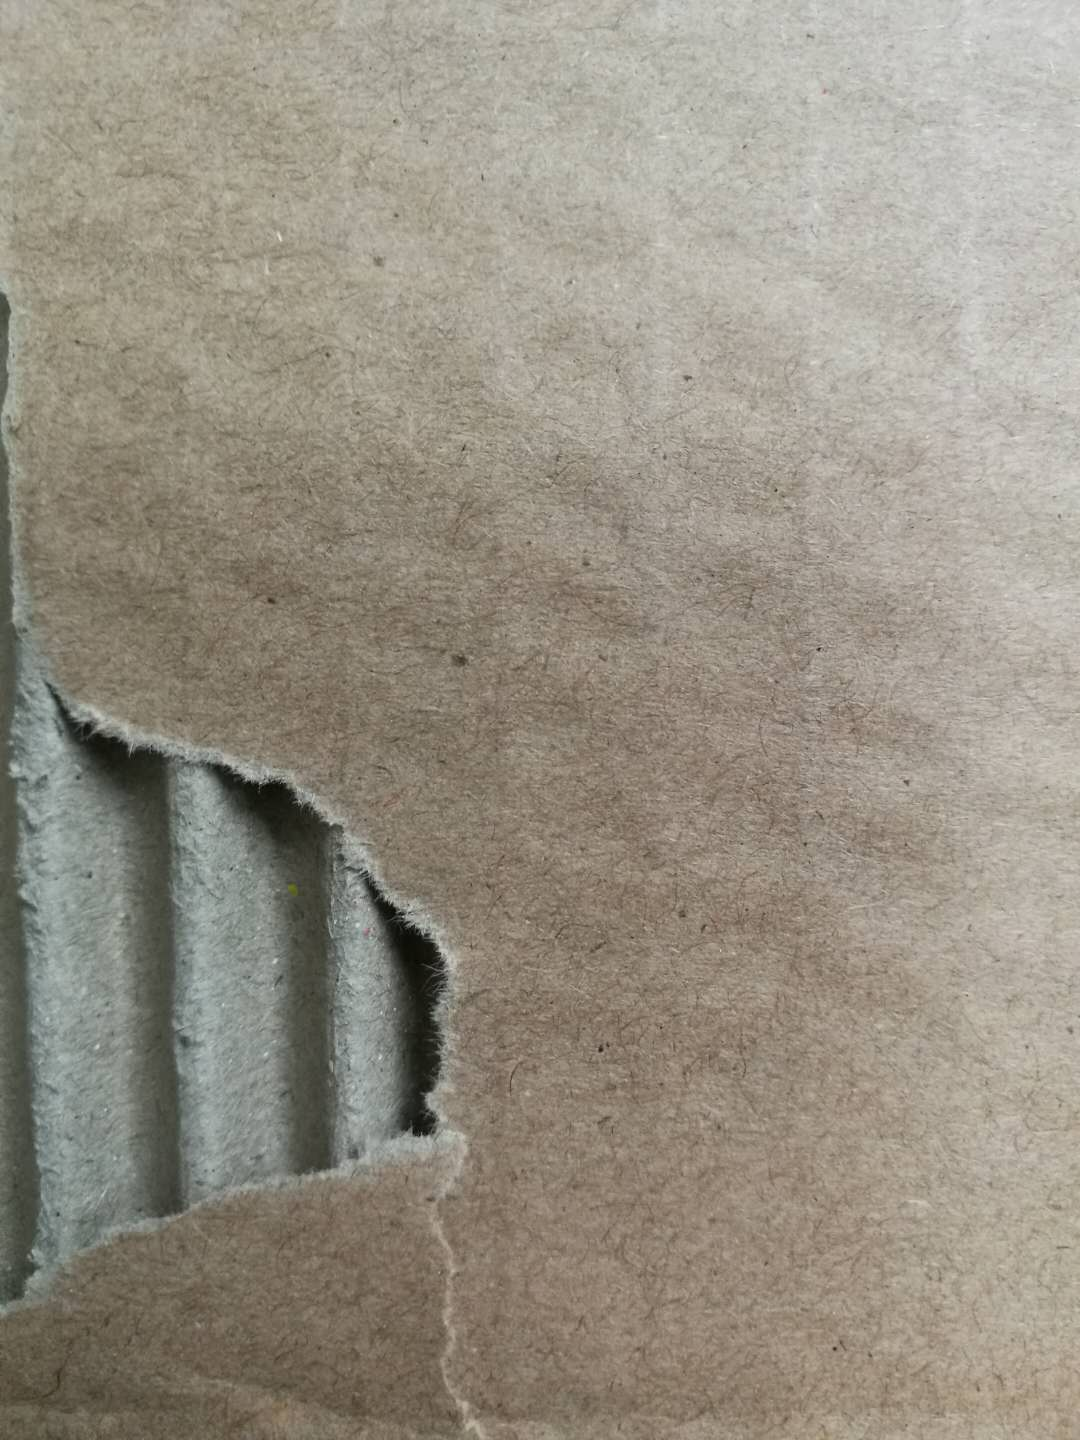defect: (3, 259, 656, 1440)
